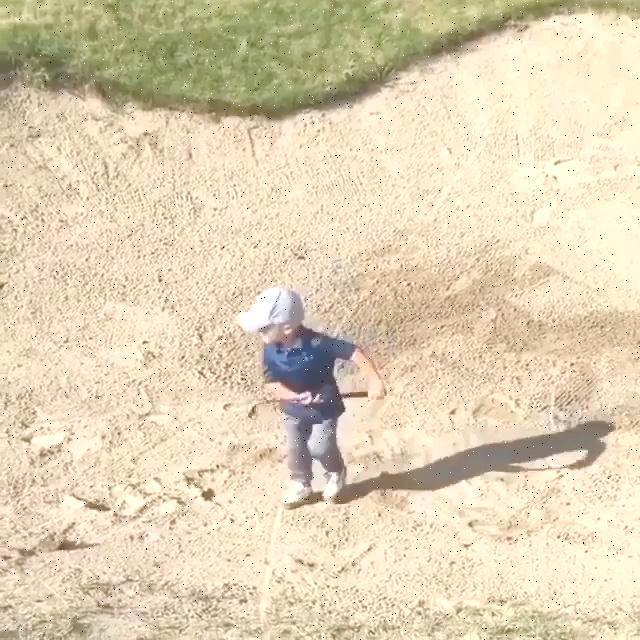ClubHandle: (247, 390, 387, 419)
ClubHead: (247, 404, 257, 419)
